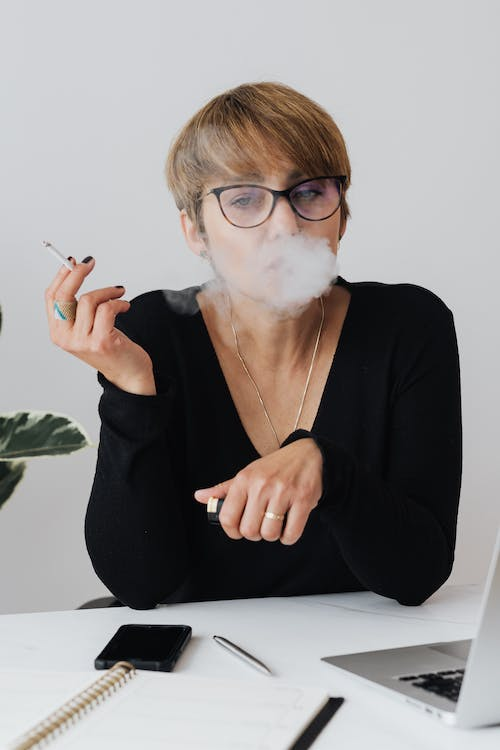cigarette: (40, 234, 78, 273)
